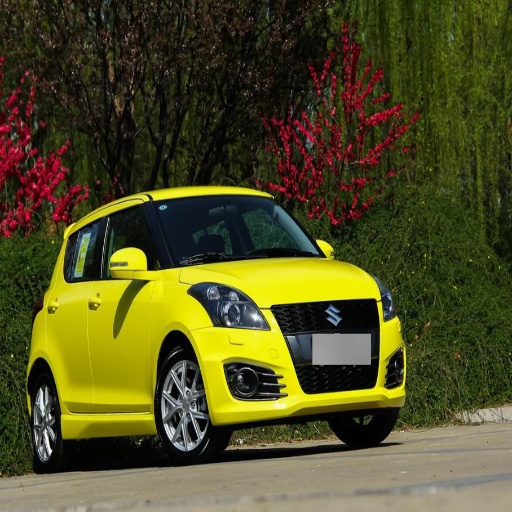front_bumper: (197, 299, 400, 422)
front_right_door: (87, 206, 156, 405)
front_right_light: (190, 284, 270, 330)
